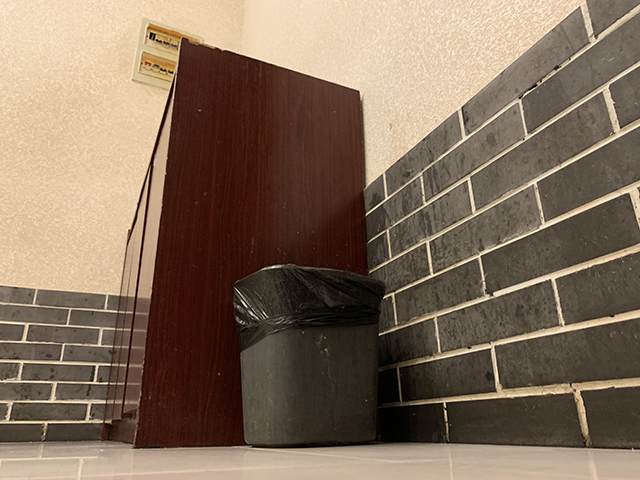cabinet: (101, 37, 371, 451)
trashcan: (230, 263, 388, 450)
